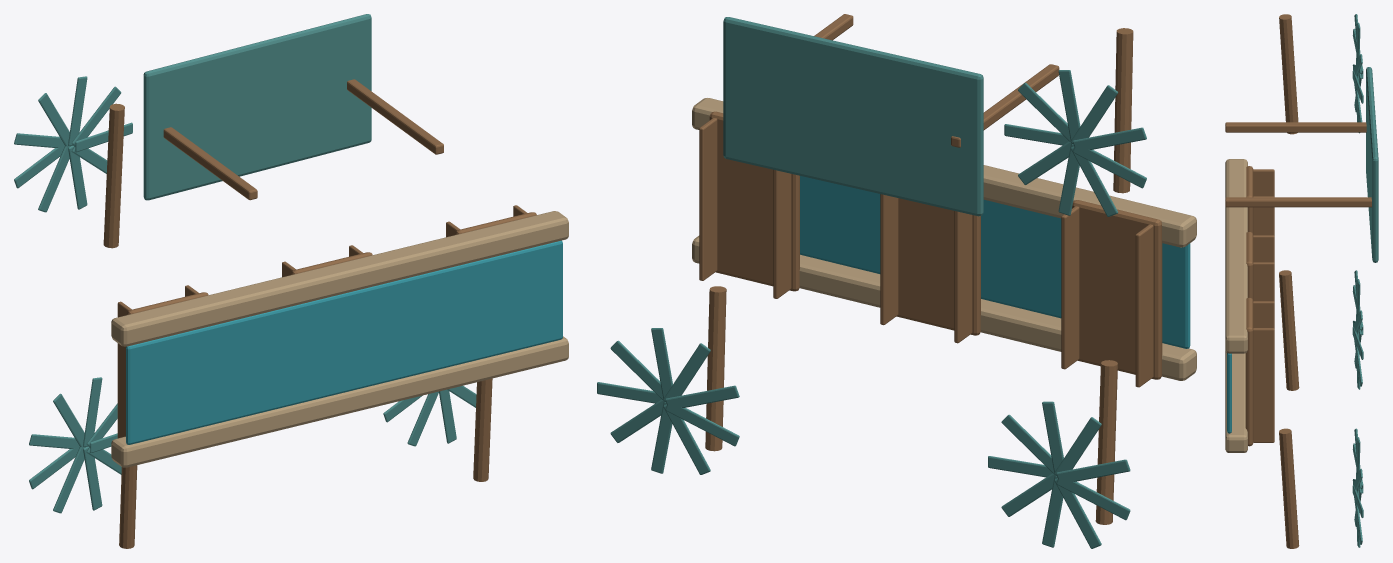
File: region-oasis-landmark.glb
3 renders of one model, left to right at view 1: azimuth 30°, elevation 25°; view 2: azimuth 150°, elevation 25°; view 3: azimuth 270°, elevation 25°, orthographic. The views are drawn at different scales.
Parts seen in each view (by area): view 1: recessed canal water, woven caravan canopy, canal dressed bank.001, canal dressed bank, date palm trunk.002, date palm trunk.001, pavilion timber post.001, pavilion timber post, date palm trunk, bridge side rail, palm leaf.020, palm leaf.002 (+2 smaller); view 2: woven caravan canopy, recessed canal water, caravan footbridge, caravan footbridge.002, caravan footbridge.001, canal dressed bank, canal dressed bank.001, bridge side rail, bridge side rail.005, bridge side rail.001, date palm trunk, date palm trunk.001 (+32 smaller); view 3: canal dressed bank.001, bridge side rail.005, woven caravan canopy, canal dressed bank, pavilion timber post.001, date palm trunk, date palm trunk.001, pavilion timber post, date palm trunk.002, caravan footbridge.002, bridge side rail.003, bridge side rail.001 (+6 smaller).
Boxes of the visible parts, x1,y1,x2,y2 form: recessed canal water: [126, 240, 562, 444]; woven caravan canopy: [143, 14, 371, 200]; canal dressed bank.001: [111, 211, 568, 346]; canal dressed bank: [111, 336, 568, 467]; date palm trunk.002: [103, 103, 124, 248]; date palm trunk.001: [473, 378, 492, 481]; pavilion timber post.001: [347, 79, 443, 154]; pavilion timber post: [163, 127, 257, 200]; date palm trunk: [119, 465, 137, 548]; bridge side rail: [117, 301, 131, 438]; palm leaf.020: [68, 76, 87, 145]; palm leaf.002: [83, 377, 102, 446]; woven caravan canopy: [723, 17, 983, 216]; recessed canal water: [800, 176, 1190, 348]; caravan footbridge: [1072, 200, 1162, 379]; caravan footbridge.002: [709, 111, 799, 291]; caravan footbridge.001: [896, 198, 980, 335]; canal dressed bank: [692, 235, 1196, 380]; canal dressed bank.001: [692, 98, 1196, 247]; bridge side rail: [1135, 224, 1153, 387]; bridge side rail.005: [699, 118, 717, 280]; bridge side rail.001: [1061, 206, 1079, 369]; date palm trunk: [1095, 360, 1117, 524]; date palm trunk.001: [705, 286, 726, 451]; canal dressed bank.001: [1225, 159, 1247, 353]; bridge side rail.005: [1253, 328, 1274, 442]; woven caravan canopy: [1366, 67, 1378, 262]; canal dressed bank: [1225, 350, 1247, 452]; pavilion timber post.001: [1225, 197, 1371, 207]; date palm trunk: [1279, 270, 1299, 390]; date palm trunk.001: [1279, 428, 1299, 548]; pavilion timber post: [1225, 122, 1366, 132]; date palm trunk.002: [1279, 14, 1298, 134]; caravan footbridge.002: [1245, 297, 1253, 446]; bridge side rail.003: [1253, 262, 1274, 301]; bridge side rail.001: [1253, 196, 1274, 235].
Bounding box in the file's own units: 13.22 × 11.92 × 4.33.
